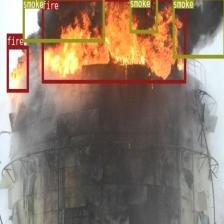fire: (42, 0, 186, 83), (7, 45, 28, 92)
smoke: (22, 0, 104, 42), (172, 0, 224, 57), (130, 0, 158, 32)
